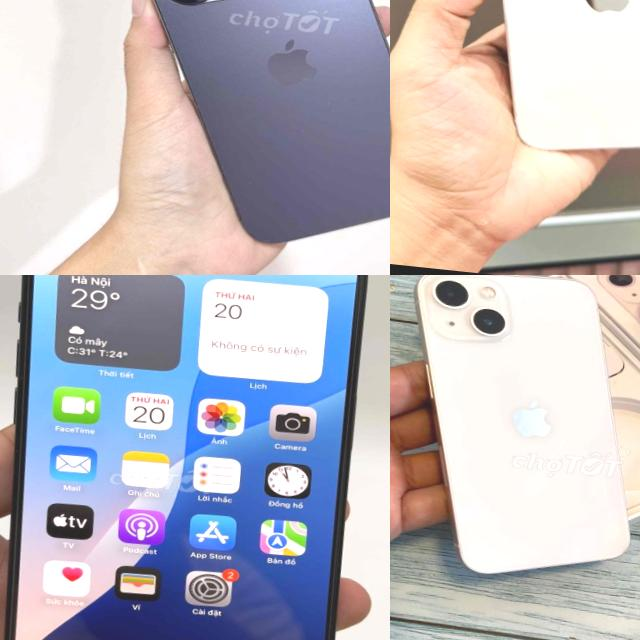gen_12_13: (390, 275, 640, 591)
gen_14: (93, 0, 390, 268), (440, 0, 640, 161)
gen_15: (0, 275, 390, 640)
